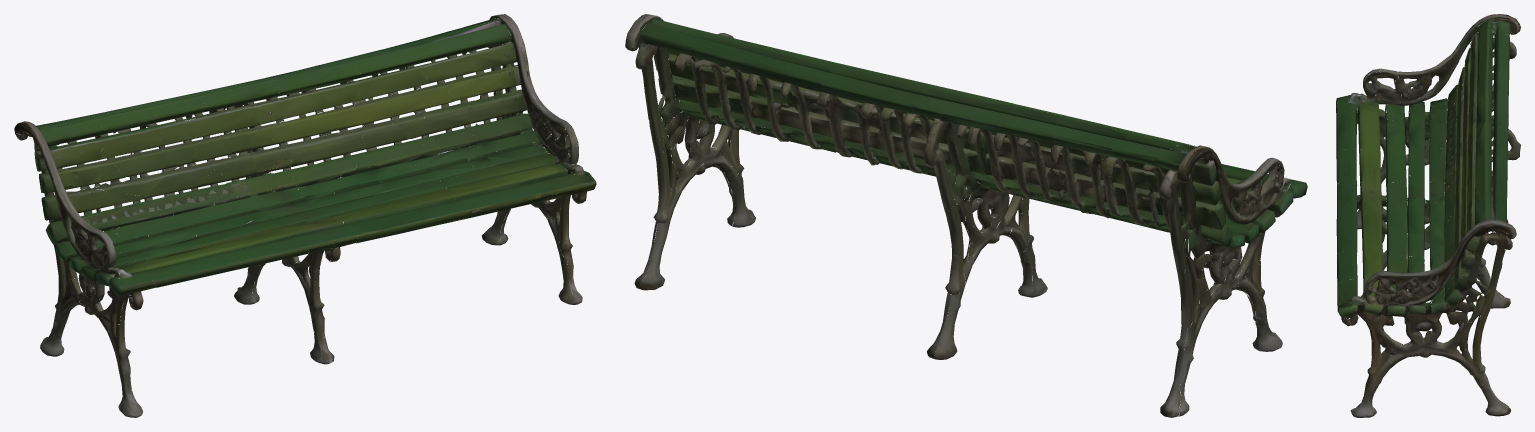
Rendered from bancaverde.glb.
The picture shows the model from 3 angles, left to right: view 1: azimuth 30°, elevation 25°; view 2: azimuth 150°, elevation 25°; view 3: azimuth 270°, elevation 25°; orthographic projection. The views are drawn at different scales.
Visible parts, largest first — view 1: tripo_node_204c81ea-032e-475b-a241-28e30a4ad3da; view 2: tripo_node_204c81ea-032e-475b-a241-28e30a4ad3da; view 3: tripo_node_204c81ea-032e-475b-a241-28e30a4ad3da.
Part boxes in pixels (<box>): tripo_node_204c81ea-032e-475b-a241-28e30a4ad3da: <box>14,14,596,417</box>; tripo_node_204c81ea-032e-475b-a241-28e30a4ad3da: <box>625,14,1307,417</box>; tripo_node_204c81ea-032e-475b-a241-28e30a4ad3da: <box>1336,14,1520,417</box>.
Bounding box in the file's own units: 0.9996 × 0.4649 × 0.381.
1 material, 1 textured.
